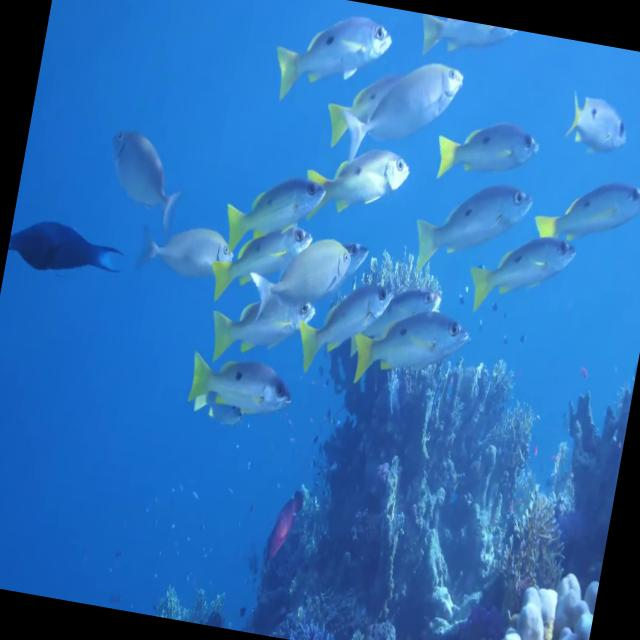fish: (339, 43, 470, 183), (260, 0, 403, 123), (343, 288, 479, 412), (408, 166, 540, 292), (236, 213, 356, 351), (287, 266, 401, 399), (177, 324, 305, 441), (459, 215, 582, 328), (90, 108, 200, 232), (202, 210, 322, 322), (206, 157, 328, 267), (2, 200, 132, 300), (421, 104, 546, 204), (526, 162, 640, 268), (134, 195, 241, 302), (194, 268, 312, 364), (300, 137, 415, 229), (557, 84, 640, 167), (408, 12, 521, 71)
